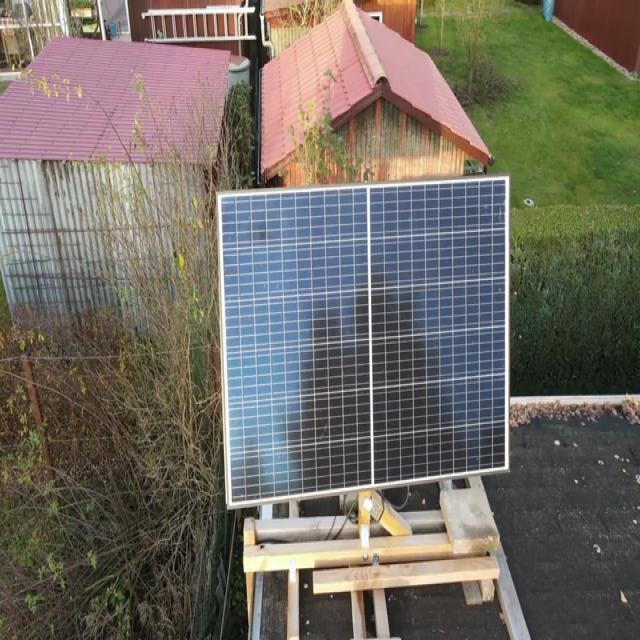Normal Solar Panel: (221, 177, 510, 507)
